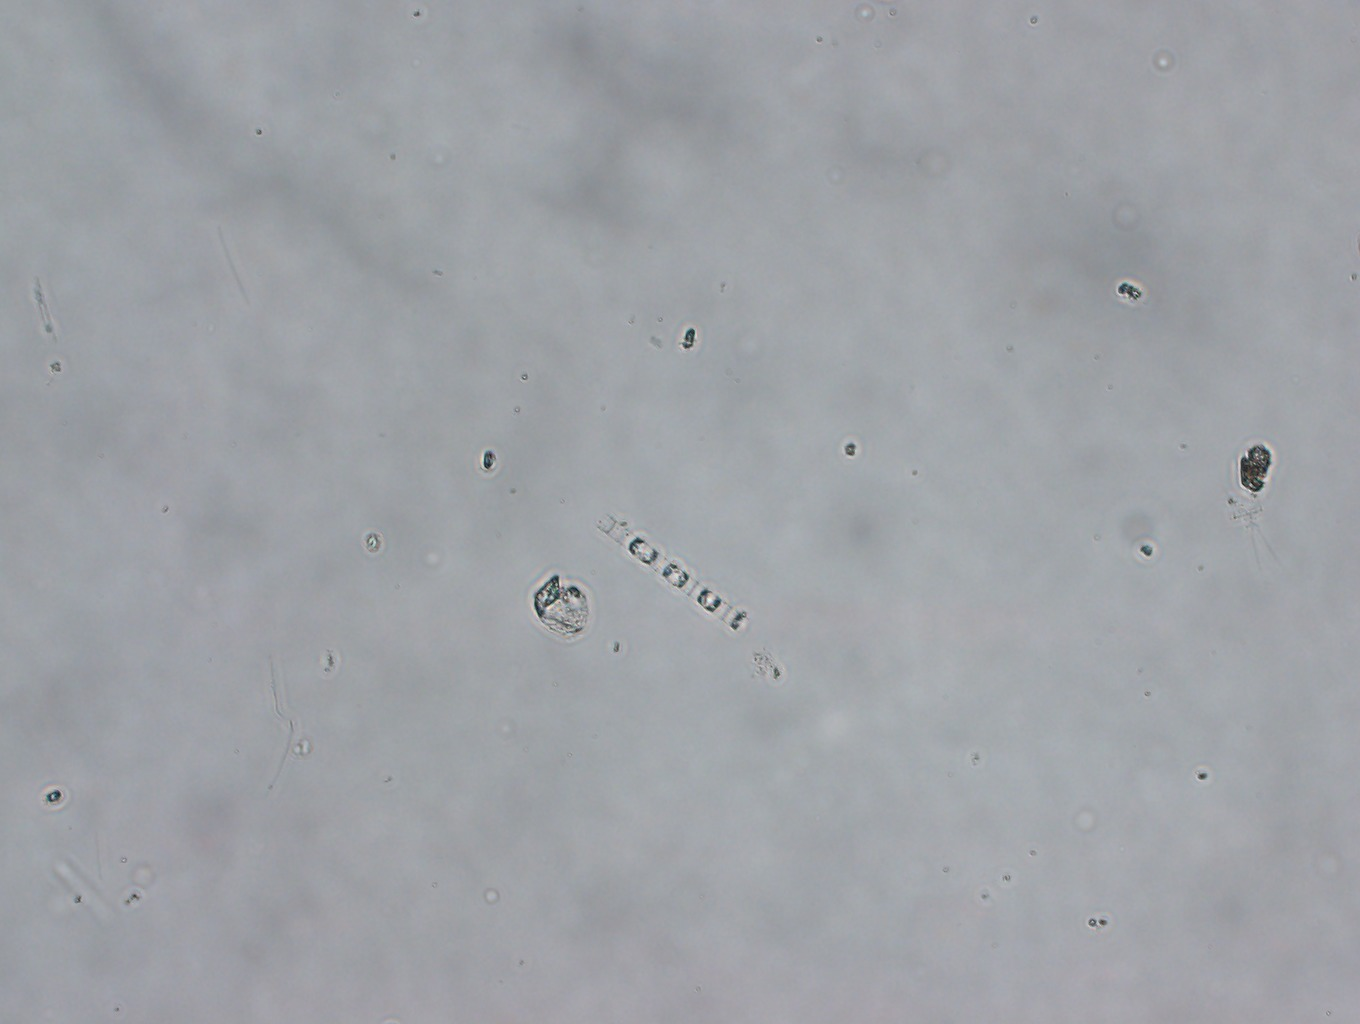skeletonema: (586, 503, 755, 640)
